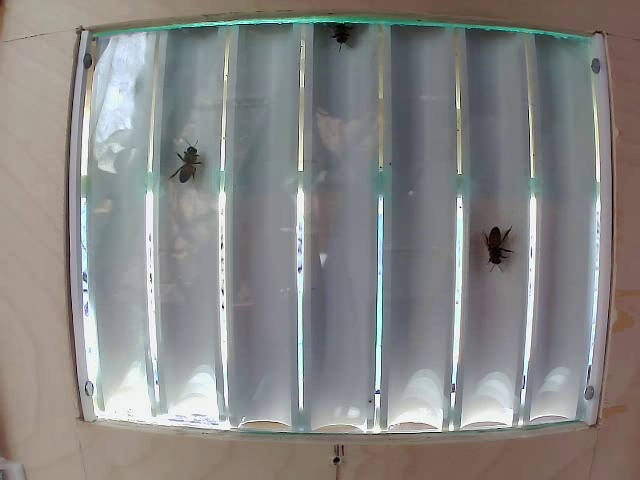bee: (469, 220, 511, 281), (155, 148, 215, 186), (319, 17, 364, 57)
